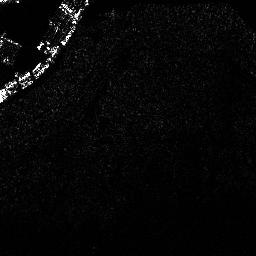ship: (59, 2, 76, 18)
